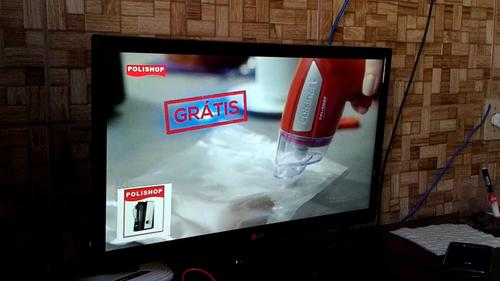Polishop #1: (115, 183, 172, 242)
